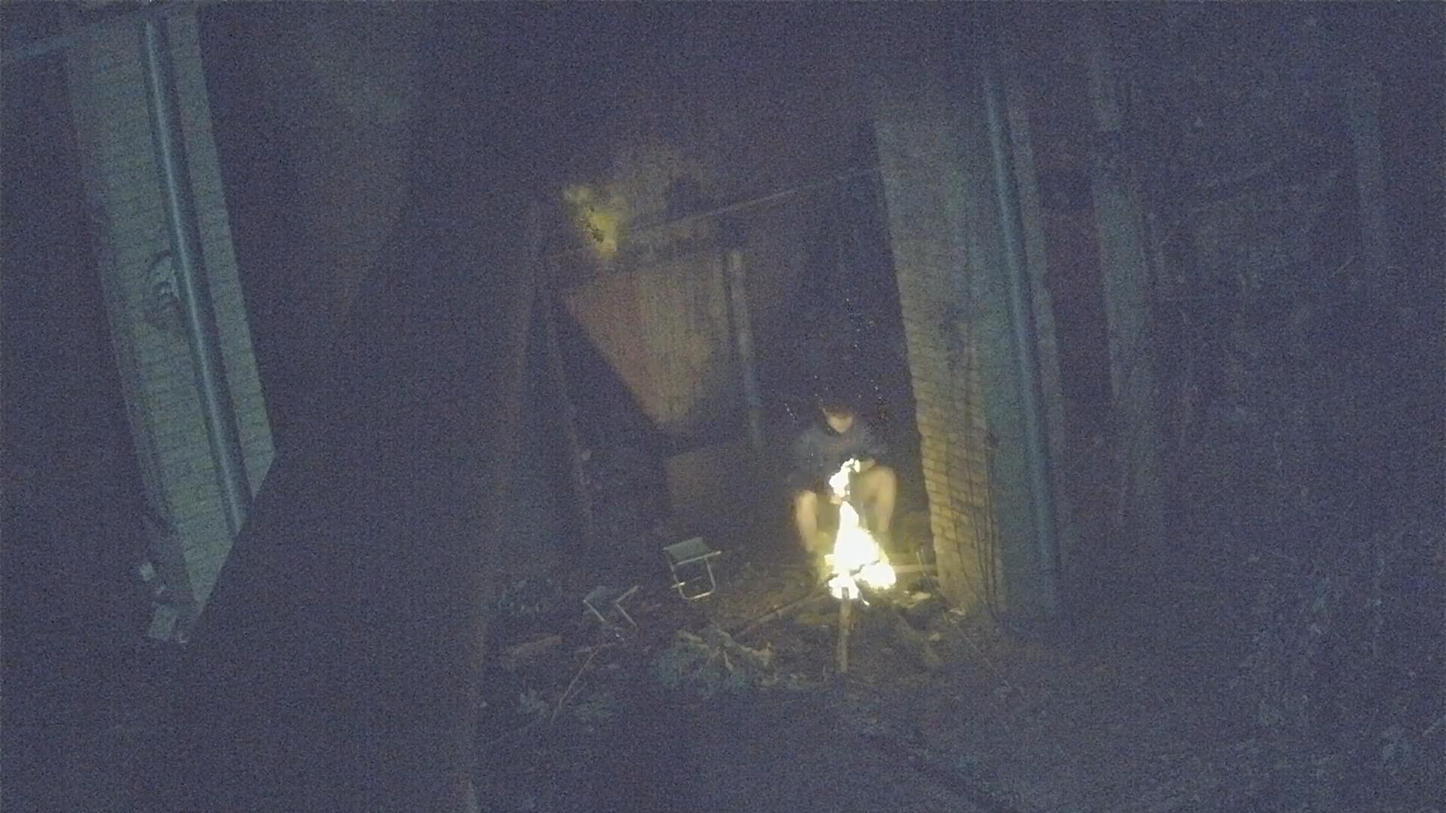fire: (825, 501, 896, 600), (833, 461, 856, 484)
